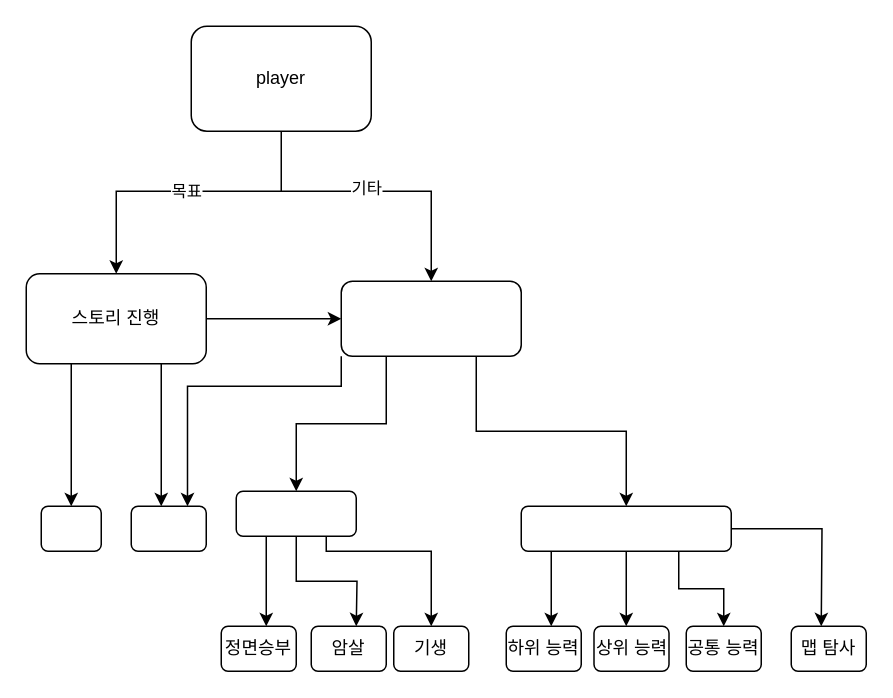
The diagram is 893 pixels wide and 698 high, and some of its shapes have lost their labels. Each missing label, with the centre of its shape:
"상호작용" belongs at [430,318].
"인간 조작" belongs at [168,528].
"전투" belongs at [295,513].
"컷신" belongs at [70,528].
"퍼즐" belongs at [625,528].
